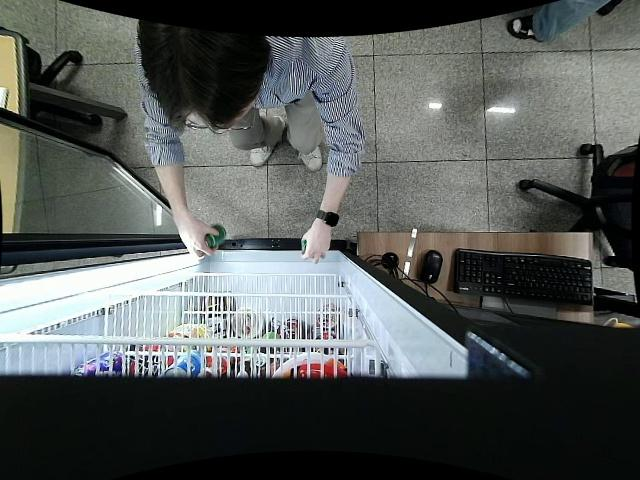00_hand: (173, 218, 220, 260), (299, 226, 332, 267)
12_chilsungCider: (199, 220, 229, 255)
